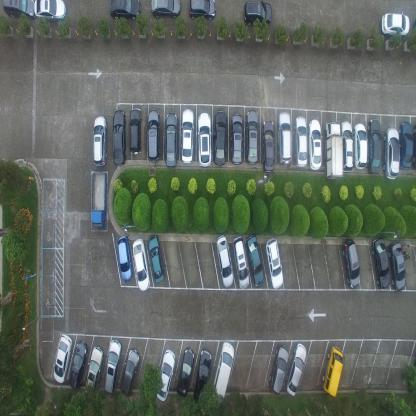car: (212, 340, 235, 402), (284, 342, 308, 396), (324, 120, 344, 180), (192, 349, 212, 407), (321, 345, 343, 397), (103, 338, 122, 396), (155, 348, 175, 403), (84, 344, 104, 397), (268, 346, 289, 396), (52, 334, 73, 384), (215, 234, 234, 288), (175, 347, 195, 398), (246, 232, 264, 288), (119, 348, 140, 396), (68, 340, 88, 390), (132, 237, 150, 292), (90, 172, 107, 230), (266, 236, 284, 290), (341, 238, 360, 289), (231, 236, 249, 289), (372, 236, 390, 289), (383, 125, 400, 179), (388, 242, 406, 292), (381, 8, 410, 38), (92, 114, 108, 167), (367, 118, 381, 176), (197, 110, 211, 168), (112, 108, 126, 166), (242, 0, 273, 26), (212, 110, 226, 167), (307, 118, 322, 171), (0, 0, 36, 22), (277, 110, 291, 166), (245, 109, 259, 165), (180, 108, 194, 164), (33, 0, 67, 23), (294, 115, 309, 167), (148, 235, 164, 283), (146, 109, 160, 163), (165, 112, 178, 170), (117, 235, 133, 282), (340, 119, 353, 173), (399, 120, 413, 170), (128, 106, 142, 156), (353, 122, 367, 170), (262, 119, 274, 173), (231, 112, 243, 166), (108, 0, 140, 20), (151, 0, 182, 20), (188, 0, 216, 21), (412, 122, 416, 172)
